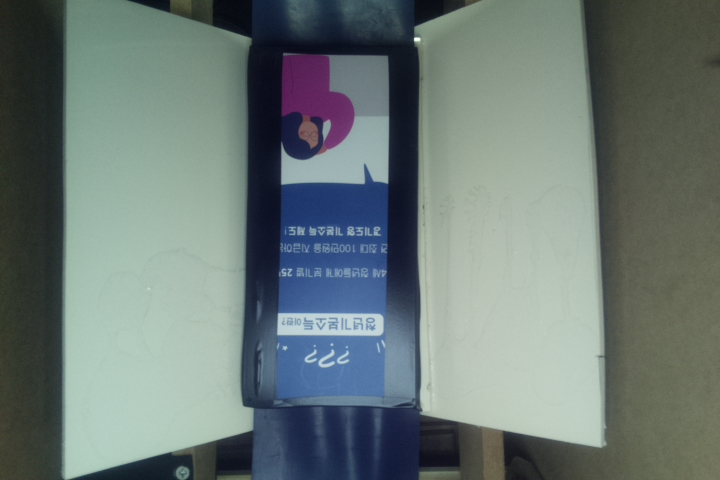book: (244, 44, 421, 413)
